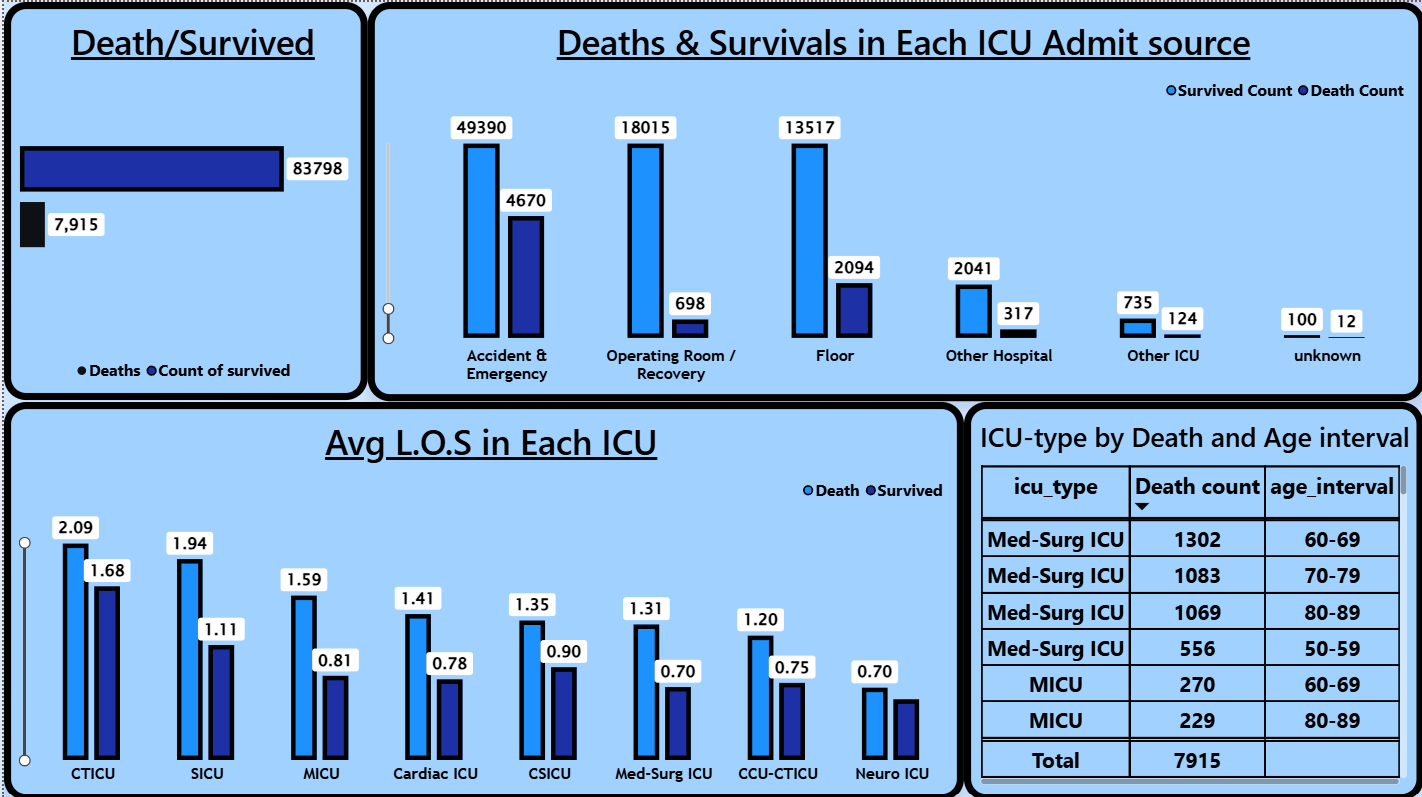

This screenshot's page, from the dashboard's own definition file:
{"tool":"powerbi","page":{"name":"ICU report","canvas":[1920,1080],"ordinal":1},"visuals":[{"type":"clusteredColumnChart","title":"Deaths & Survivals in Each ICU Admit source","fields":{"Category":["cleaned_hospital_data.icu_admit_source"],"Y":["Survival data.Survived Count","Survival data.Death Count"]},"box":[491.7,0,1430.1,540.3],"z":0},{"type":"clusteredColumnChart","title":"Avg L.O.S in Each ICU","fields":{"Y":["Survival data.Avg LOS Death","Survival data.Avg LOS Survived"],"Category":["cleaned_hospital_data.icu_type"]},"box":[0,540.3,1298.6,540.3],"z":1000},{"type":"tableEx","title":"ICU-type by Death and Age interval","fields":{"Values":["cleaned_hospital_data.icu_type","cleaned_hospital_data.hospital_death","cleaned_hospital_data.age_interval"]},"box":[1298.6,540.3,621.4,540.3],"z":2000},{"type":"clusteredBarChart","title":"Death/Survived","fields":{"Y":["cleaned_hospital_data.Total Deaths","CountNonNull(Survival data.survived)"]},"box":[0,0,491.7,538.5],"z":3000}]}

Visuals, with their boxes in screenshot pixels (x1, y1, x2, y2), scaled from the page's 1920x1080 canvas onto the 1422x797 screenshot:
"Deaths & Survivals in Each ICU Admit source" clusteredColumnChart: 364,0,1421,399
"Avg L.O.S in Each ICU" clusteredColumnChart: 0,399,962,796
"ICU-type by Death and Age interval" tableEx: 962,399,1421,796
"Death/Survived" clusteredBarChart: 0,0,364,397
